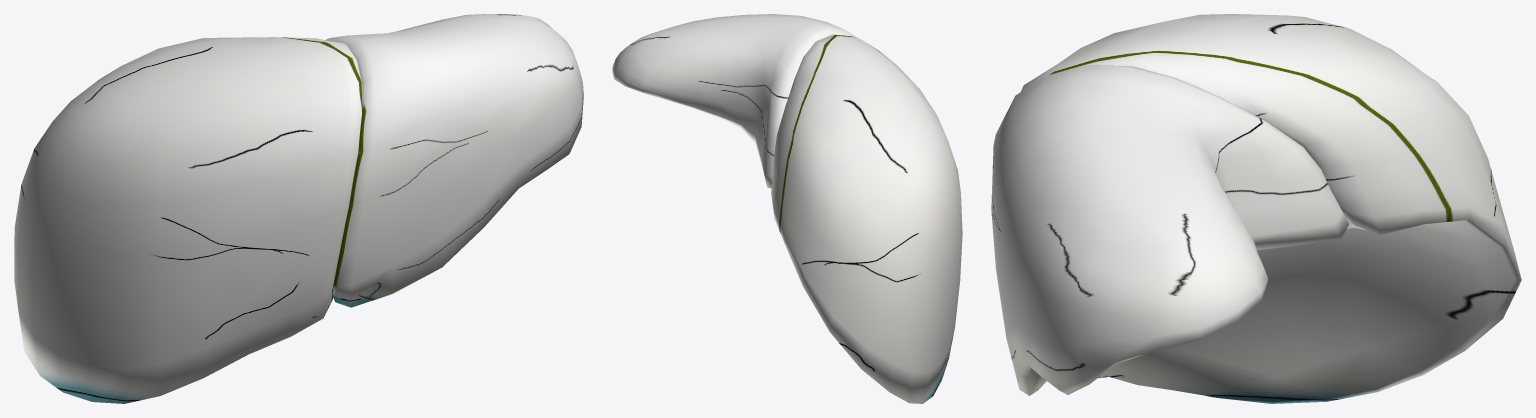
File: liver_ar.fbx
3 renders of one model, left to right at view 1: azimuth 30°, elevation 25°; view 2: azimuth 150°, elevation 25°; view 3: azimuth 270°, elevation 25°, orthographic. The views are drawn at different scales.
Parts seen in each view (by area): view 1: polySurface2; view 2: polySurface2; view 3: polySurface2.
Part boxes in pixels (x1,y1,x2,y2): polySurface2: (14,14,583,403); polySurface2: (612,14,962,403); polySurface2: (991,14,1521,403).
Size of the model in its own units: 5.37 by 3.82 by 3.76.
Materials: 1 (1 with a texture image).
